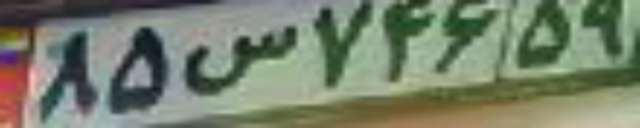4: (381, 0, 434, 83)
5: (516, 0, 568, 69)
6: (104, 24, 168, 114), (441, 1, 500, 72)
7: (312, 0, 373, 88)
8: (35, 30, 98, 122)
9: (579, 0, 628, 58)
sin: (175, 23, 298, 97)
